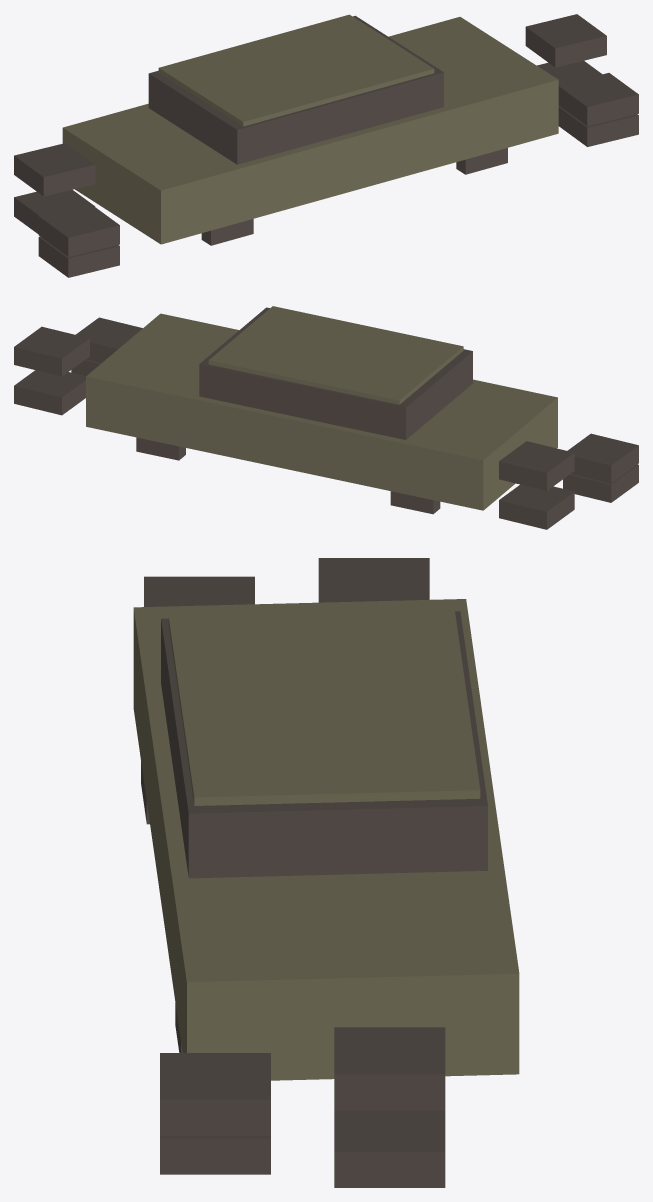
The model's file is SM_BarricadaCivil_v3_Furgoneta_e0_Sano_LOD0.fbx.
3 views of the same model, one above another, from view 1: azimuth 30°, elevation 25°; view 2: azimuth 150°, elevation 25°; view 3: azimuth 270°, elevation 25° (orthographic). The views are drawn at different scales.
Visible parts, largest first — view 1: SM_barricada_civil_v12_LOD0; view 2: SM_barricada_civil_v12_LOD0; view 3: SM_barricada_civil_v12_LOD0.
Boxes of the visible parts, x1,y1,x2,y2 form: SM_barricada_civil_v12_LOD0: (14, 14, 638, 277); SM_barricada_civil_v12_LOD0: (14, 306, 638, 529); SM_barricada_civil_v12_LOD0: (133, 558, 519, 1187).
Size of the model in its own units: 8 by 1.41 by 2.43.
